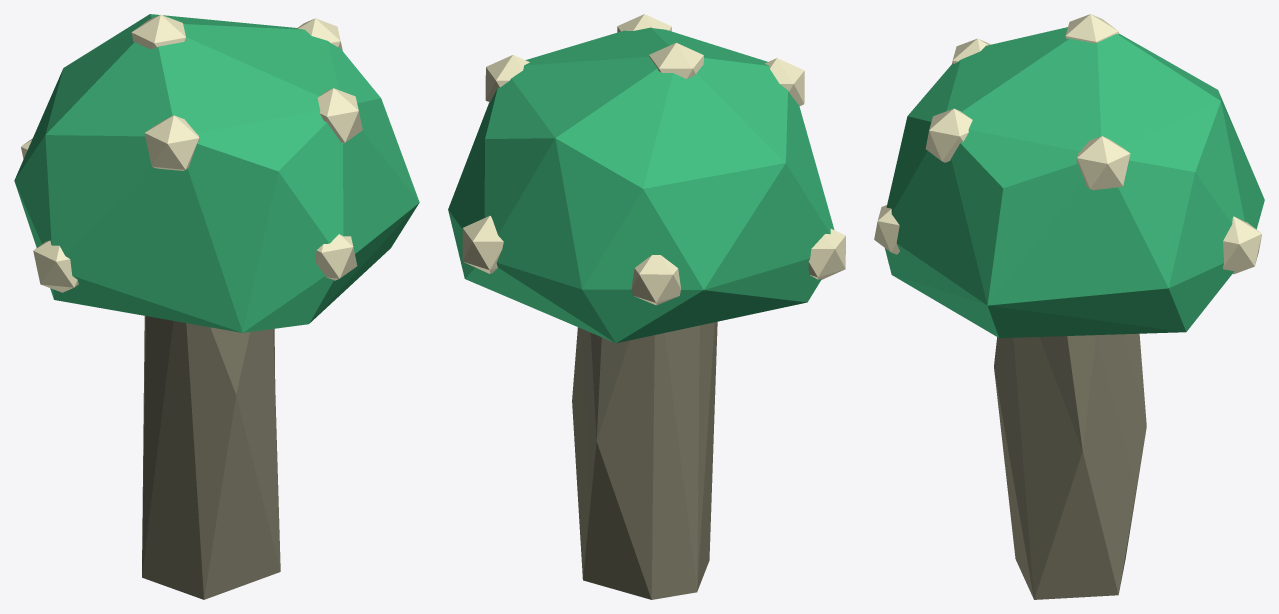
File: shroom1-6.fbx
3 views of the same model, side by side, from view 1: azimuth 30°, elevation 25°; view 2: azimuth 150°, elevation 25°; view 3: azimuth 270°, elevation 25° (orthographic). The views are drawn at different scales.
Visible parts, largest first — view 1: Mushroom_01_LOD0; view 2: Mushroom_01_LOD0; view 3: Mushroom_01_LOD0.
Boxes of the visible parts, x1,y1,x2,y2 form: Mushroom_01_LOD0: [14, 14, 419, 599]; Mushroom_01_LOD0: [448, 14, 845, 599]; Mushroom_01_LOD0: [874, 14, 1264, 599].
Size of the model in its own units: 22.52 by 34.07 by 22.22.
